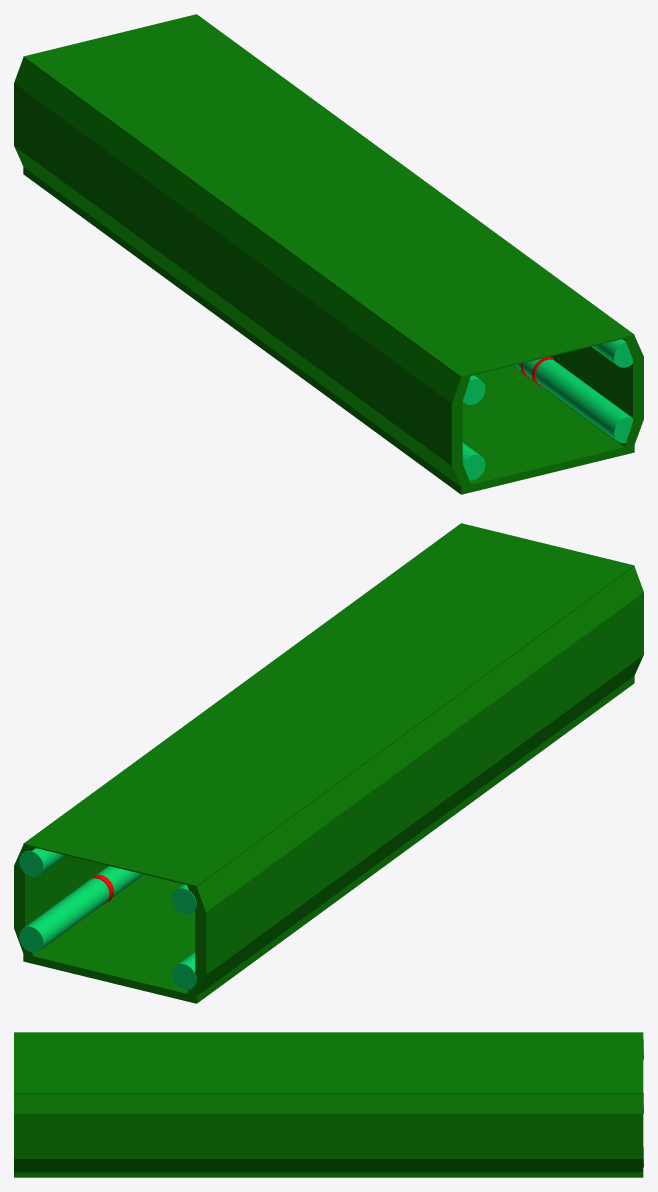
Rendered from couloir droit.FBX.
3 renders of one model, top to bottom at view 1: azimuth 30°, elevation 25°; view 2: azimuth 150°, elevation 25°; view 3: azimuth 270°, elevation 25°, orthographic. The views are drawn at different scales.
Visible parts, largest first — view 1: 2e couloir, Object003, Object001; view 2: 2e couloir, Object003, Object001, Object002; view 3: 2e couloir.
Part boxes in pixels (x1,y1,x2,y2): 2e couloir: [14, 14, 643, 494]; Object003: [514, 357, 632, 443]; Object001: [591, 339, 632, 367]; 2e couloir: [14, 523, 643, 1003]; Object003: [19, 866, 143, 952]; Object001: [19, 848, 66, 877]; Object002: [172, 952, 196, 989]; 2e couloir: [14, 1032, 643, 1177].
Bounding box in the file's own units: 2841 × 1666 × 11221.
